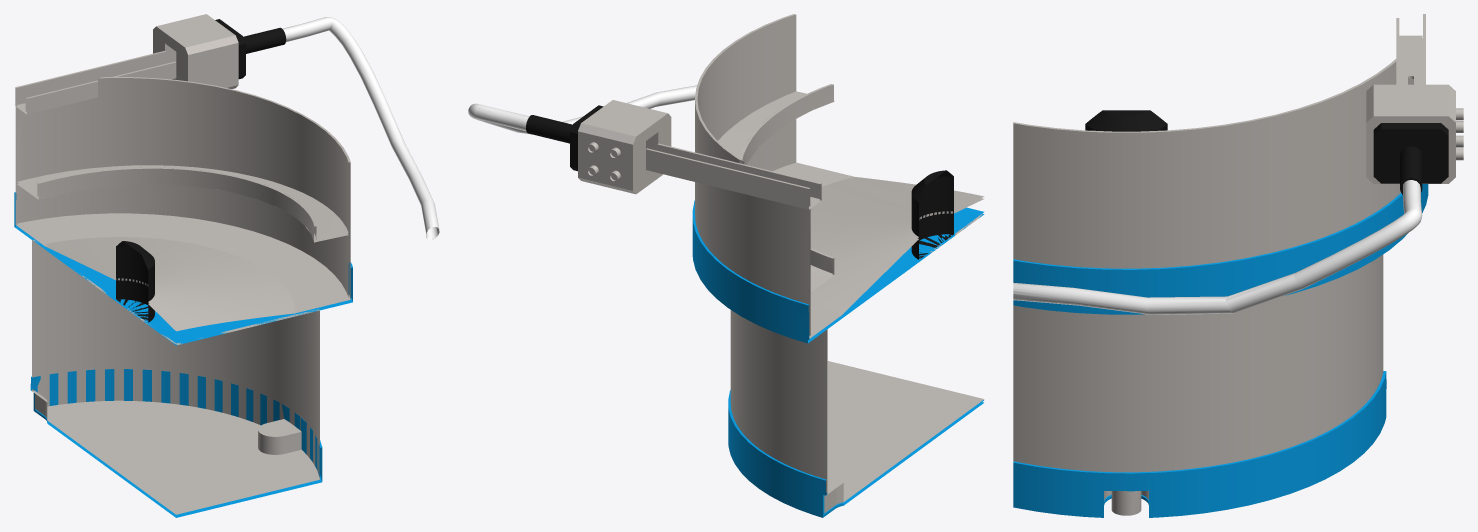
File: PinInsertionStation_Cube04.glb
3 views of the same model, side by side, from view 1: azimuth 30°, elevation 25°; view 2: azimuth 150°, elevation 25°; view 3: azimuth 270°, elevation 25° (orthographic). The views are drawn at different scales.
Visible parts, largest first — view 1: color-25; view 2: color-25; view 3: color-25.
Boxes of the visible parts, left/top/right/bottom form: color-25: left=14, top=14, right=439, bottom=517; color-25: left=468, top=14, right=984, bottom=517; color-25: left=1013, top=14, right=1463, bottom=517.
Bounding box in the file's own units: 0.3198 × 0.3157 × 0.3005.
